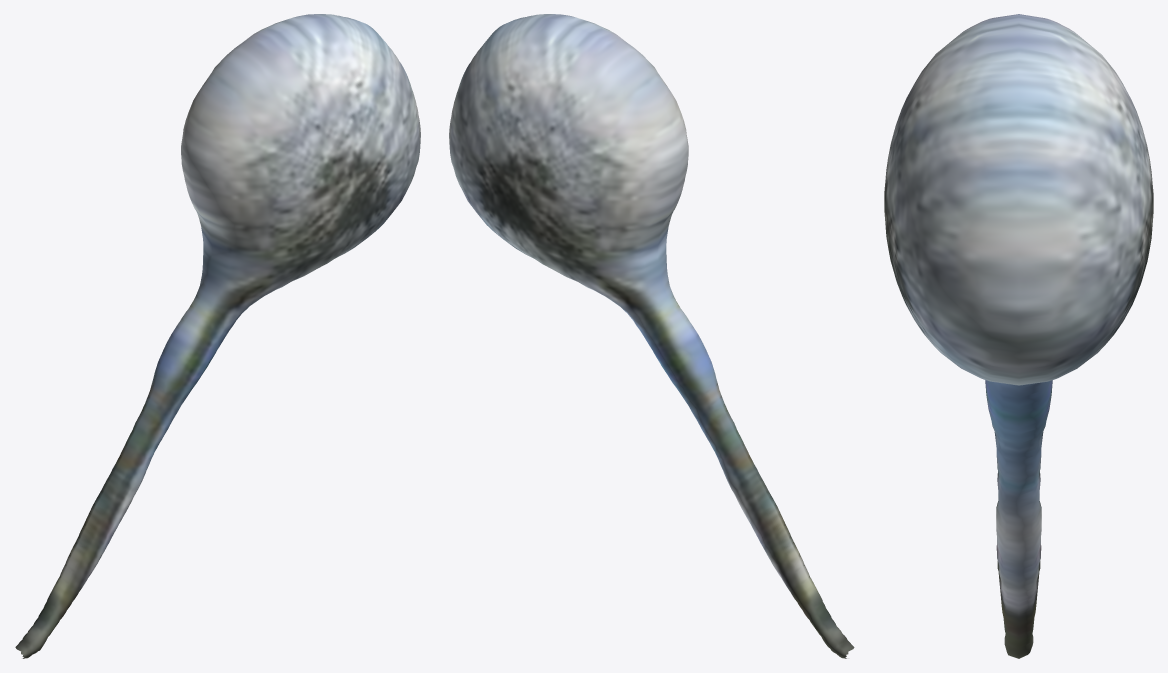
The model's file is mm_project.glb.
3 renders of one model, left to right at view 1: azimuth 30°, elevation 25°; view 2: azimuth 150°, elevation 25°; view 3: azimuth 270°, elevation 25°, orthographic. The views are drawn at different scales.
Size of the model in its own units: 3.89 by 5.33 by 1.57.
1 material, 1 textured.
